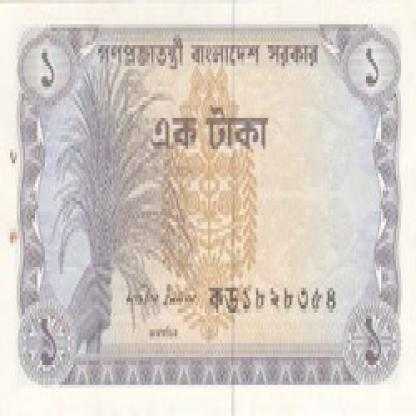One Taka: (146, 100, 273, 163), (32, 312, 63, 378), (358, 308, 388, 368), (358, 38, 388, 94), (33, 38, 60, 94)
